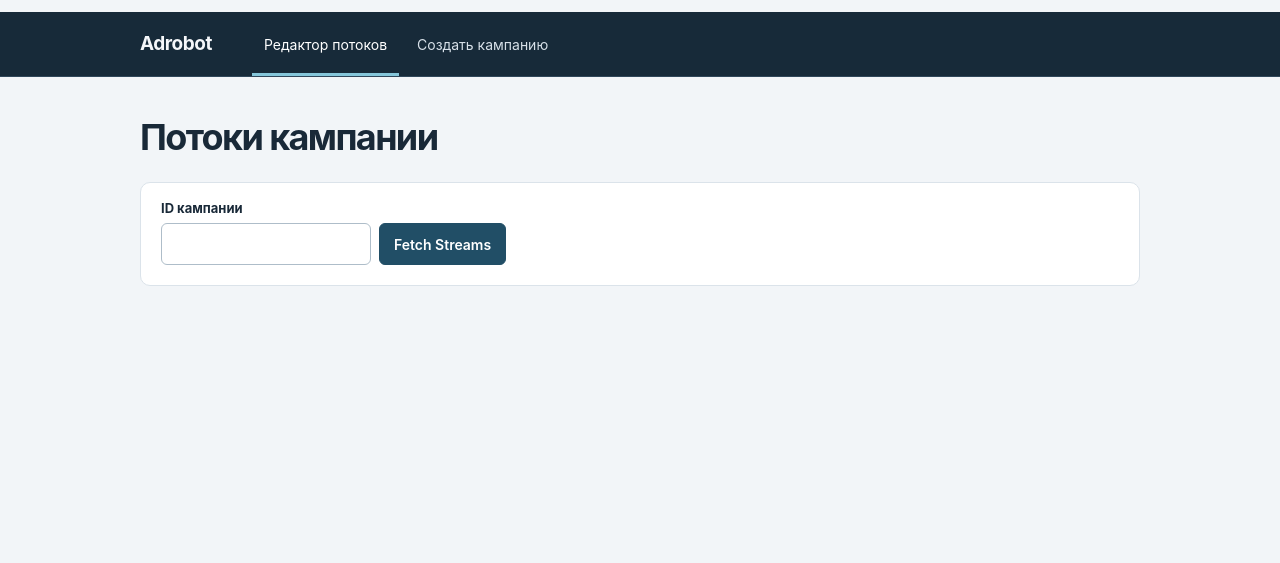
Test case: stream editor displays the field and reason when adding an offer fails validation
The width and height of the screenshot is (1280, 563).
Type "1" into the field labelled "ID кампании" at {"x": 266, "y": 244}, box 161,223 -> 371,265
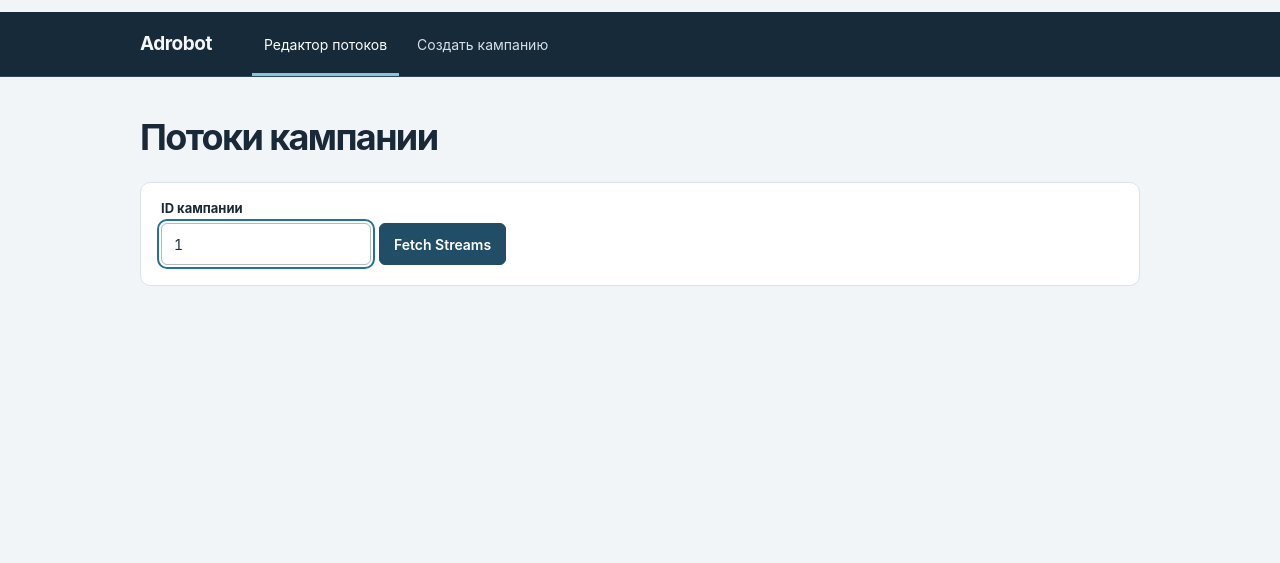
Click the button "Fetch Streams" at {"x": 443, "y": 244}, box 379,223 -> 506,265
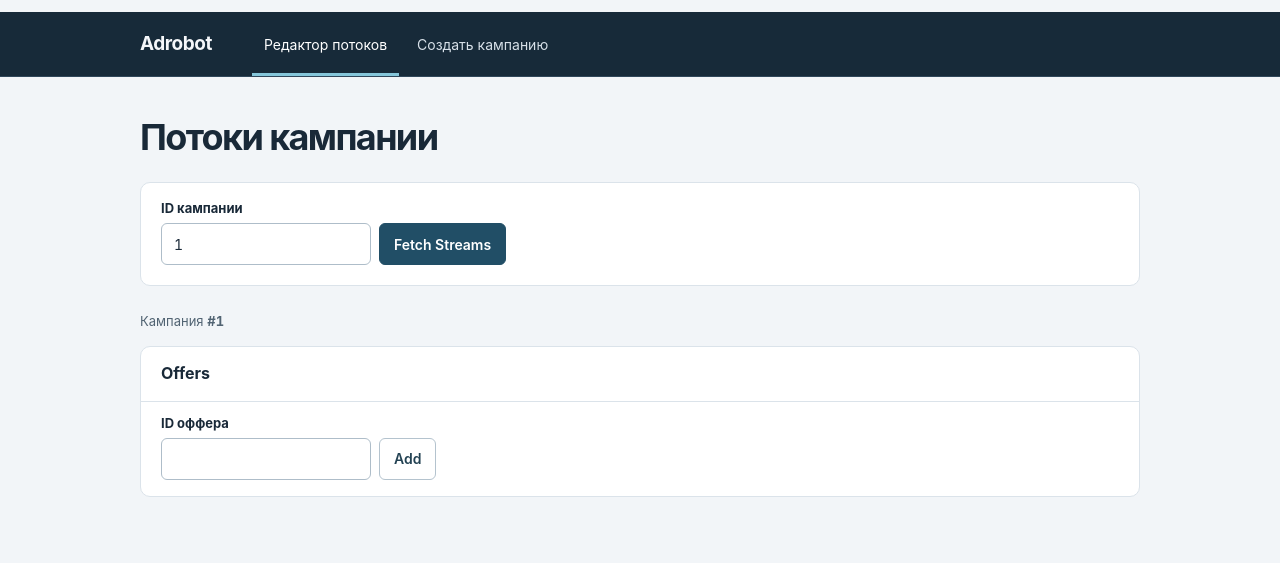
Now the heading "Offers" is shown, box 161,362 -> 210,385
Type "20" into the field labelled "ID оффера" at {"x": 266, "y": 458}, box 161,438 -> 371,480
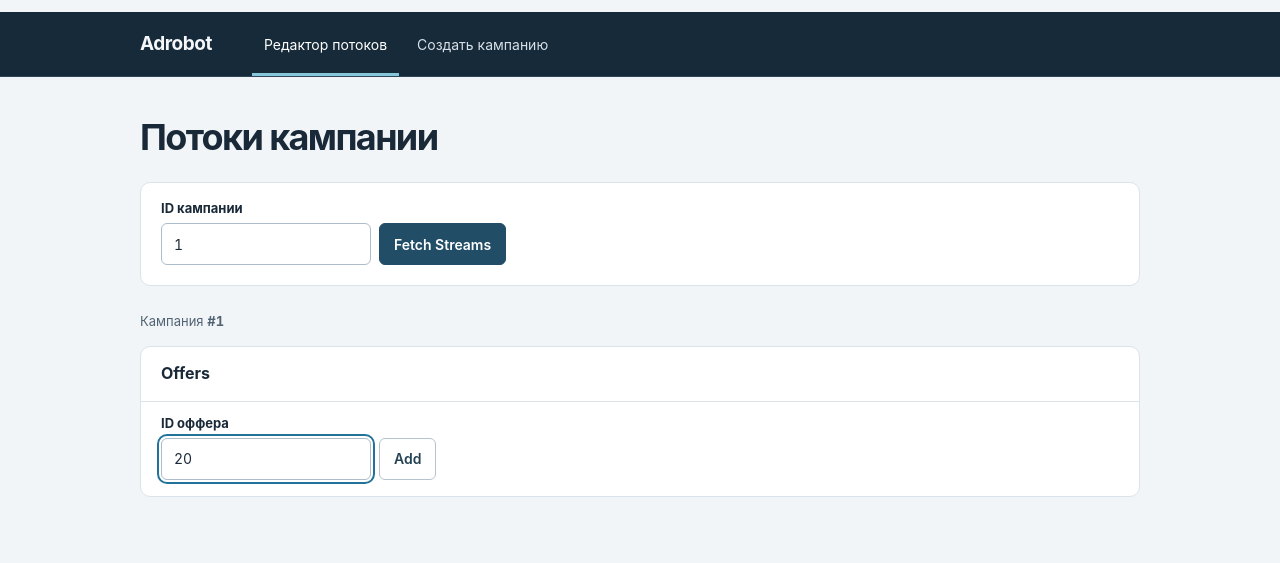
Click the button "Add" at {"x": 408, "y": 458}, box 379,438 -> 436,480
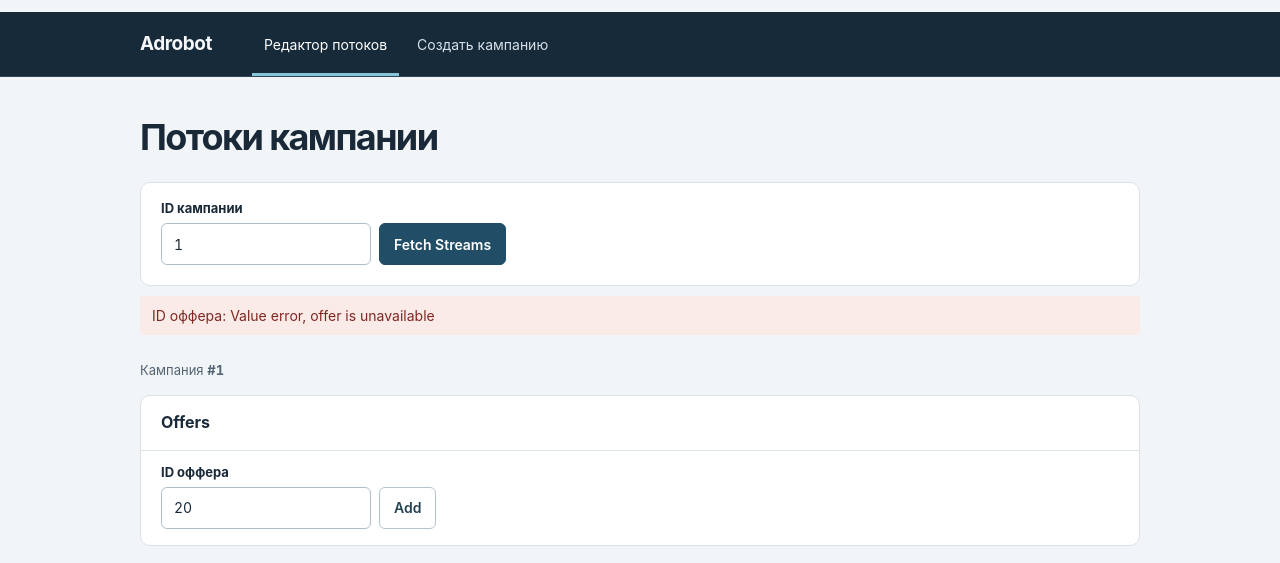
Now the message reads "ID оффера: Value error, offer is unavailable", box 152,307 -> 435,324
